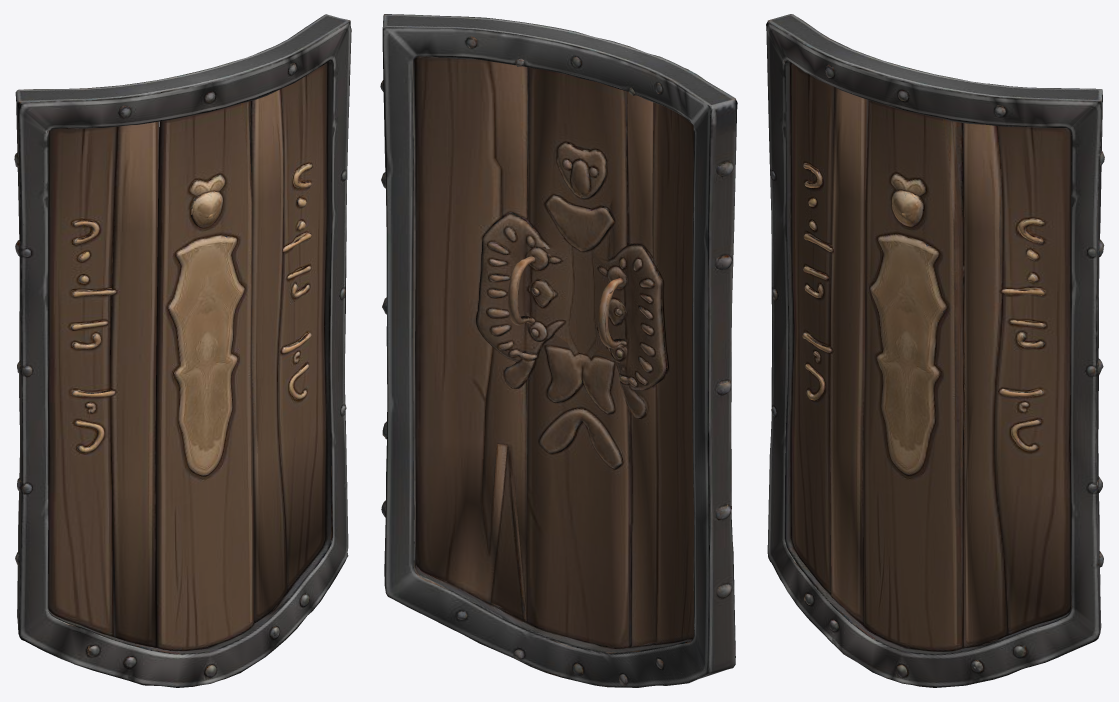
The model's file is muro_curandeiro_minotauro.glb.
3 views of the same model, side by side, from view 1: azimuth 30°, elevation 25°; view 2: azimuth 150°, elevation 25°; view 3: azimuth 330°, elevation 25° (orthographic). The views are drawn at different scales.
Visible parts, largest first — view 1: mesh_node; view 2: mesh_node; view 3: mesh_node.
Boxes of the visible parts, x1=… form: mesh_node: x1=14, y1=14, x2=351, y2=687; mesh_node: x1=380, y1=14, x2=737, y2=687; mesh_node: x1=766, y1=14, x2=1104, y2=687.
Size of the model in its own units: 0.582 by 1 by 0.1318.
Materials: 1 (1 with a texture image).
